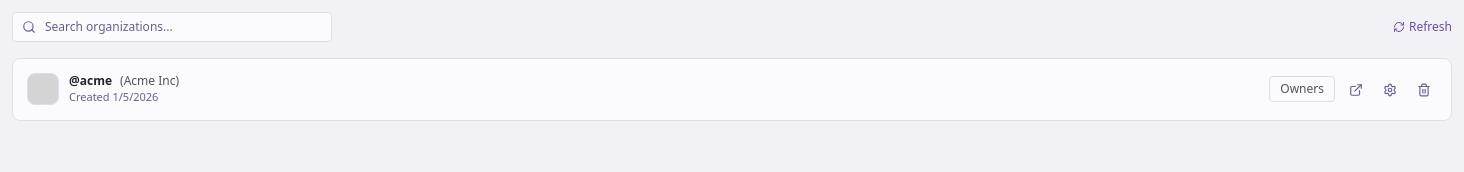
Test case: OrganizationsPanel › says nobody owns it rather than showing an empty list
This screenshot has width=1464, height=172.
Expected: the text "@acme" is shown, top-left (69, 73), bottom-right (112, 89)
Click the button "Owners" at (1302,89), box top-left (1269, 76), bottom-right (1335, 102)
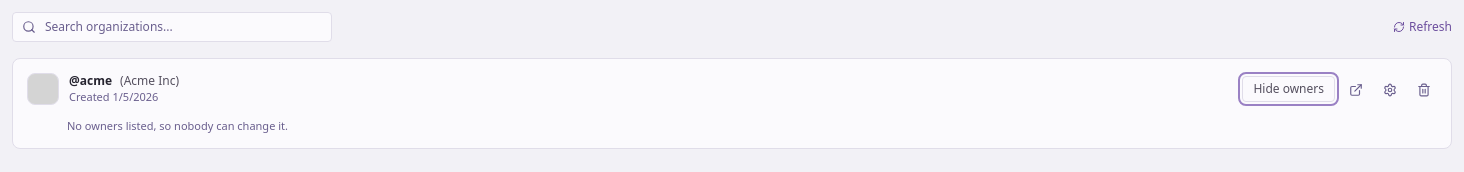
Expected: the text "No owners listed, so nobody can change it." is shown, top-left (67, 118), bottom-right (288, 132)
